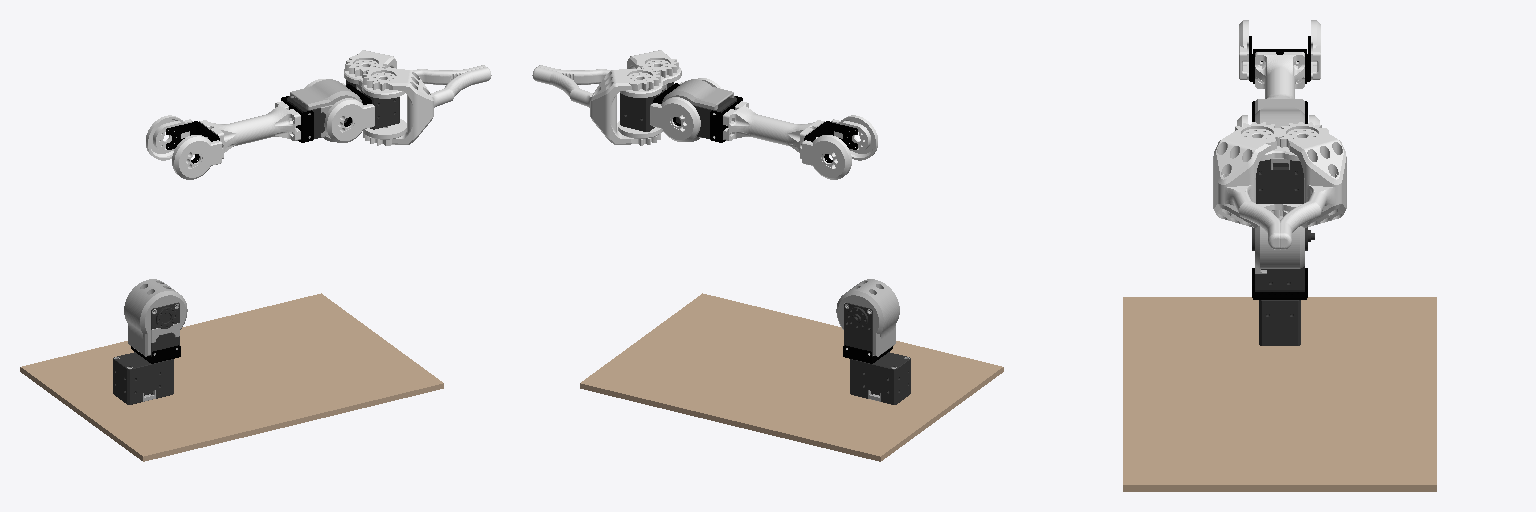
URDF robot description (mikata_arm_4):
<?xml version="1.0"?>
<robot name="mikata_arm_4">

  <link name="base_link">
    <visual>
      <geometry>
	<mesh filename="package://mikata_arm_bringup/description/meshes/mikata_arm_4_joint1.dae"/>
      </geometry>
      <origin rpy="0 0 -1.57075" xyz="0 0 0.017"/>
    </visual>
    <collision>
      <origin rpy="0 0 -1.57075" xyz="0 0 0.017"/>
      <geometry>
	<mesh filename="package://mikata_arm_bringup/description/meshes/mikata_arm_4_joint1.stl"/>
      </geometry>
    </collision>
  </link>

  <link name="plate_link">
    <visual>
      <geometry>
        <box size="0.297 0.210 0.005"/>
      </geometry>
      <material name="gray">
        <color rgba="0.8 0.7 0.6 0.5"/>
      </material>
    </visual>
  </link>
  <joint name="plate_joint" type="fixed">
    <parent link="base_link"/>
    <child link="plate_link"/>
    <origin xyz="0.0755 0 -0.005"/>
  </joint>
  
  <link name="link_2">
    <visual>
      <geometry>
	<mesh filename="package://mikata_arm_bringup/description/meshes/mikata_arm_4_joint2.dae"/>
      </geometry>
      <origin rpy="1.57075 0 1.57075" xyz="0 0 .0405"/>
    </visual>
    <collision>
      <origin rpy="1.57075 0 1.57075" xyz="0 0 .0405"/>
      <geometry>
	<mesh filename="package://mikata_arm_bringup/description/meshes/mikata_arm_4_joint2.stl"/>
      </geometry>
    </collision>
  </link>
  <joint name="joint_1" type="revolute">
    <parent link="base_link"/>
    <child link="link_2"/>
    <axis xyz="0 0 1"/>
    <limit lower="-3.141592653589793" upper="3.1400586728019073" effort="1000" velocity="0.7"/>
    <origin xyz="0 0 .0355"/>
  </joint>

  <link name="link_3">
    <visual>
      <geometry>
	<mesh filename="package://mikata_arm_bringup/description/meshes/mikata_arm_4_joint3.dae"/>
      </geometry>
      <origin rpy="0 0 -1.57075" xyz=".024 0 .148"/>
    </visual>
    <collision>
      <origin rpy="0 0 -1.57075" xyz=".024 0 .148"/>
      <geometry>
	<mesh filename="package://mikata_arm_bringup/description/meshes/mikata_arm_4_joint3.stl"/>
      </geometry>
    </collision>    
  </link>
  <joint name="joint_2" type="revolute">
    <parent link="link_2"/>
    <child link="link_3"/>
    <axis xyz="0 1 0"/>
    <limit lower="-1.8070293681292853" upper="2.073942025221387" effort="1000" velocity="0.7"/>
    <origin xyz="0 0 .0405"/>
  </joint>
  
  <link name="link_4">
    <visual>
      <geometry>
	<mesh filename="package://mikata_arm_bringup/description/meshes/mikata_arm_4_joint4.dae"/>
      </geometry>
      <origin rpy="0 3.14159 -1.57075" xyz=".150 0 0"/>
    </visual>
    <collision>
      <origin rpy="0 3.14159 -1.57075" xyz=".150 0 0"/>
      <geometry>
	<mesh filename="package://mikata_arm_bringup/description/meshes/mikata_arm_4_joint4.stl"/>
      </geometry>
    </collision>
  </link>
  <joint name="joint_3" type="revolute">
    <parent link="link_3"/>
    <child link="link_4"/>
    <axis xyz="0 1 0"/>
    <limit lower="-1.7456701366138596" upper="1.4143302864305611" effort="1000" velocity="0.7"/>
    <origin xyz=".024 0 .148"/>
  </joint>

  <link name="link_5">
    <visual>
      <geometry>
	<mesh filename="package://mikata_arm_bringup/description/meshes/mikata_arm_4_joint5.dae"/>
      </geometry>
      <origin rpy="0 1.57075 0" xyz=".04225 .015 0"/>
    </visual>
    <collision>
      <origin rpy="0 1.57075 0" xyz=".04225 .015 0"/>
      <geometry>
	<mesh filename="package://mikata_arm_bringup/description/meshes/mikata_arm_4_joint5.stl"/>
      </geometry>
    </collision>    
  </link>
  <joint name="joint_4" type="revolute">
    <parent link="link_4"/>
    <child link="link_5"/>
    <axis xyz="0 1 0"/>
    <limit lower="-1.7303303287350031" upper="1.88986433067511" effort="1000" velocity="0.7"/>
    <origin xyz="0.150 0 0"/>
  </joint>

  <link name="left_gripper">
    <visual>
      <geometry>
	<mesh filename="package://mikata_arm_bringup/description/meshes/mikata_arm_4_gripper.dae"/>
      </geometry>
      <origin rpy="3.14159 0 -.9773835"/>
    </visual>
    <collision>
      <origin rpy="3.14159 0 -.9773835"/>
      <geometry>
	<mesh filename="package://mikata_arm_bringup/description/meshes/mikata_arm_4_gripper.stl"/>
      </geometry>
    </collision>    
  </link>
  <joint name="gripper_joint_5" type="revolute">
    <parent link="link_5"/>
    <child link="left_gripper"/>
    <axis xyz="0 0 1"/>
    <limit lower="0" upper="1.452906" effort="1000" velocity="0.7"/>
    <origin xyz=".04225 .015 0"/>
  </joint>

  <link name="right_gripper">
    <visual>
      <geometry>
	<mesh filename="package://mikata_arm_bringup/description/meshes/mikata_arm_4_gripper.dae"/>
      </geometry>
      <origin rpy="0 0 .9773835"/>
    </visual>
    <collision>
      <origin rpy="0 0 .9773835"/>
      <geometry>
	<mesh filename="package://mikata_arm_bringup/description/meshes/mikata_arm_4_gripper.stl"/>
      </geometry>
    </collision>    
  </link>
  <joint name="right_gripper_joint" type="revolute">
    <parent link="link_5"/>
    <child link="right_gripper"/>
    <axis xyz="0 0 1"/>
    <limit lower="0" upper="1.452906" effort="1000" velocity="0.7"/>
    <origin xyz=".04225 -.015 0"/>
    <mimic joint="gripper_joint_5" multiplier="-1"/>
  </joint>

</robot>

--- Facts derived from the render (not from the file) ---
Views: 3 orthographic renders of the robot side by side, from view 1: azimuth 30°, elevation 25°; view 2: azimuth 150°, elevation 25°; view 3: azimuth 270°, elevation 25°.
Robot: mikata_arm_4 — 8 links, 7 joints (6 revolute, 1 fixed); root link base_link; default pose: every joint at zero.
Links seen in each view (by area): view 1: plate_link, link_4, link_2, link_5, right_gripper, base_link, left_gripper; view 2: plate_link, link_4, link_2, link_5, left_gripper, base_link, right_gripper; view 3: plate_link, link_4, left_gripper, right_gripper, link_2, link_5, base_link.
Boxes of the visible links, box(x1,y1,x2,y2) form: plate_link: box(20, 293, 443, 461); link_4: box(146, 79, 362, 179); link_2: box(124, 279, 187, 363); link_5: box(305, 69, 406, 142); right_gripper: box(363, 67, 491, 145); base_link: box(113, 352, 173, 404); left_gripper: box(345, 50, 485, 84); plate_link: box(580, 293, 1003, 461); link_4: box(662, 79, 877, 179); link_2: box(836, 279, 899, 363); link_5: box(618, 67, 720, 141); left_gripper: box(532, 67, 660, 145); base_link: box(850, 352, 910, 404); right_gripper: box(538, 50, 678, 132); plate_link: box(1123, 297, 1436, 491); link_4: box(1239, 20, 1320, 127); left_gripper: box(1276, 122, 1346, 249); right_gripper: box(1213, 122, 1281, 249); link_2: box(1252, 216, 1314, 299); link_5: box(1237, 115, 1319, 211); base_link: box(1259, 300, 1300, 345).
Size in the robot's own frame: 0.4011 by 0.21 by 0.2605 metres.
6 mesh visuals loaded from 6 distinct referenced files (5 Collada DAE); not drawn: 1 (reference not matched to a file when rendering).